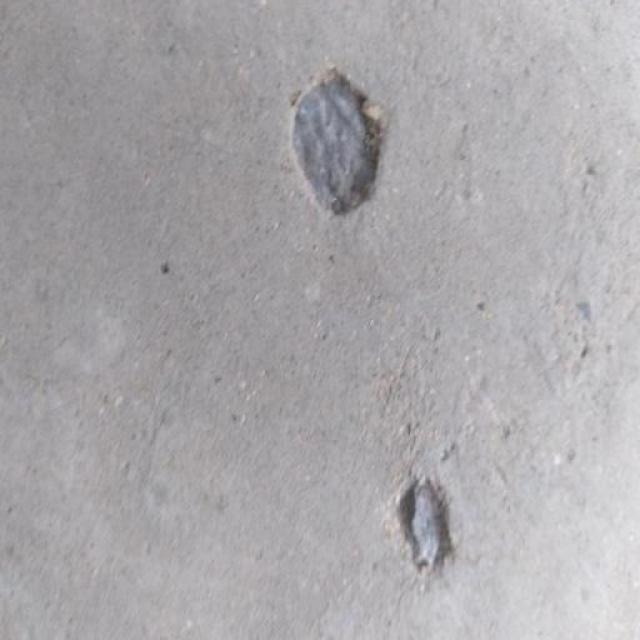D10: (289, 62, 386, 218), (381, 474, 456, 576)
